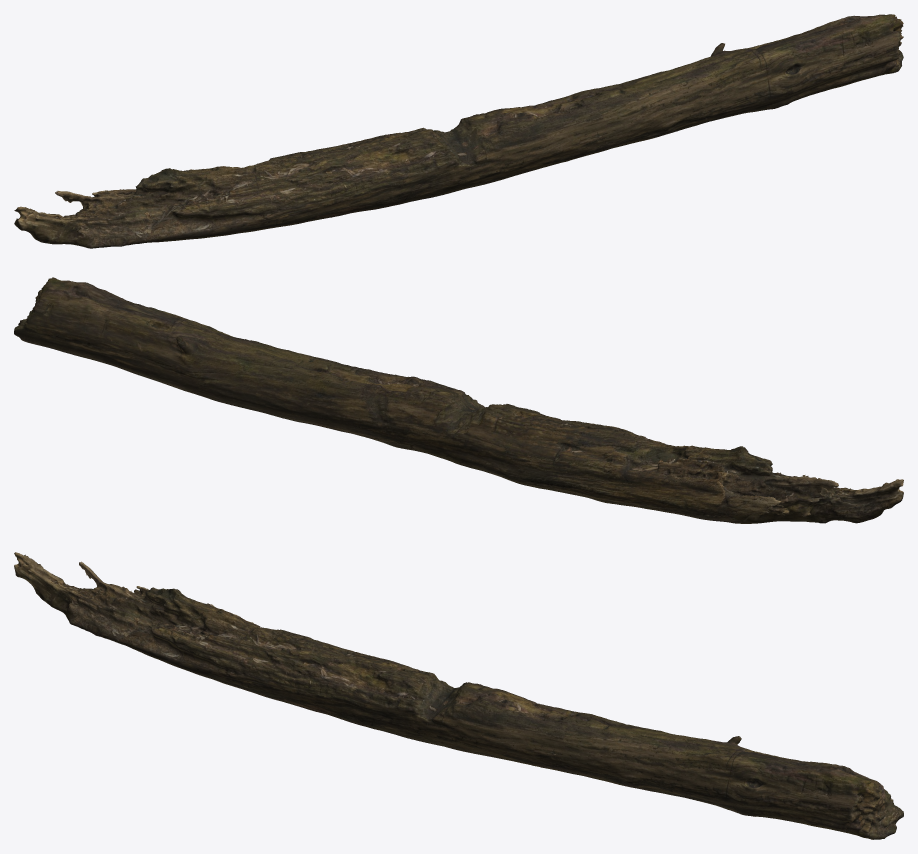
The model's file is dead_tree_trunk_4k.gltf.
The picture shows the model from 3 angles, top to bottom: view 1: azimuth 30°, elevation 25°; view 2: azimuth 150°, elevation 25°; view 3: azimuth 330°, elevation 25°; orthographic projection.
Parts seen in each view (by area): view 1: dead_tree_trunk; view 2: dead_tree_trunk; view 3: dead_tree_trunk.
Boxes of the visible parts, bbox=[...] form: dead_tree_trunk: bbox=[14, 14, 903, 248]; dead_tree_trunk: bbox=[14, 277, 903, 523]; dead_tree_trunk: bbox=[14, 552, 903, 839].
Size of the model in its own units: 3.05 by 0.2904 by 0.2775.
Materials: 1 (1 with a texture image).
